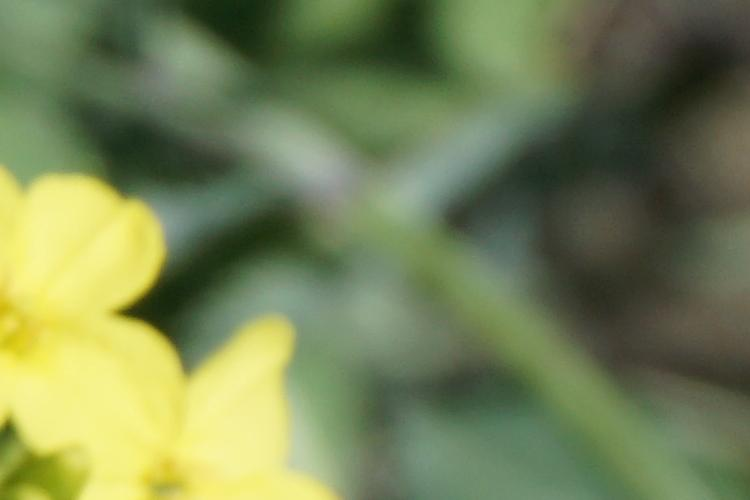yellow: (90, 313, 333, 498), (4, 179, 171, 414)
